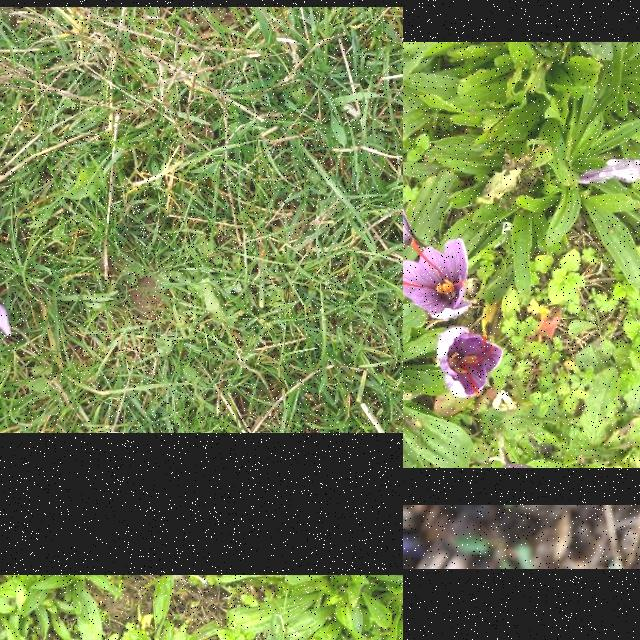flower: (403, 237, 472, 320), (435, 328, 505, 398), (0, 297, 12, 357)
